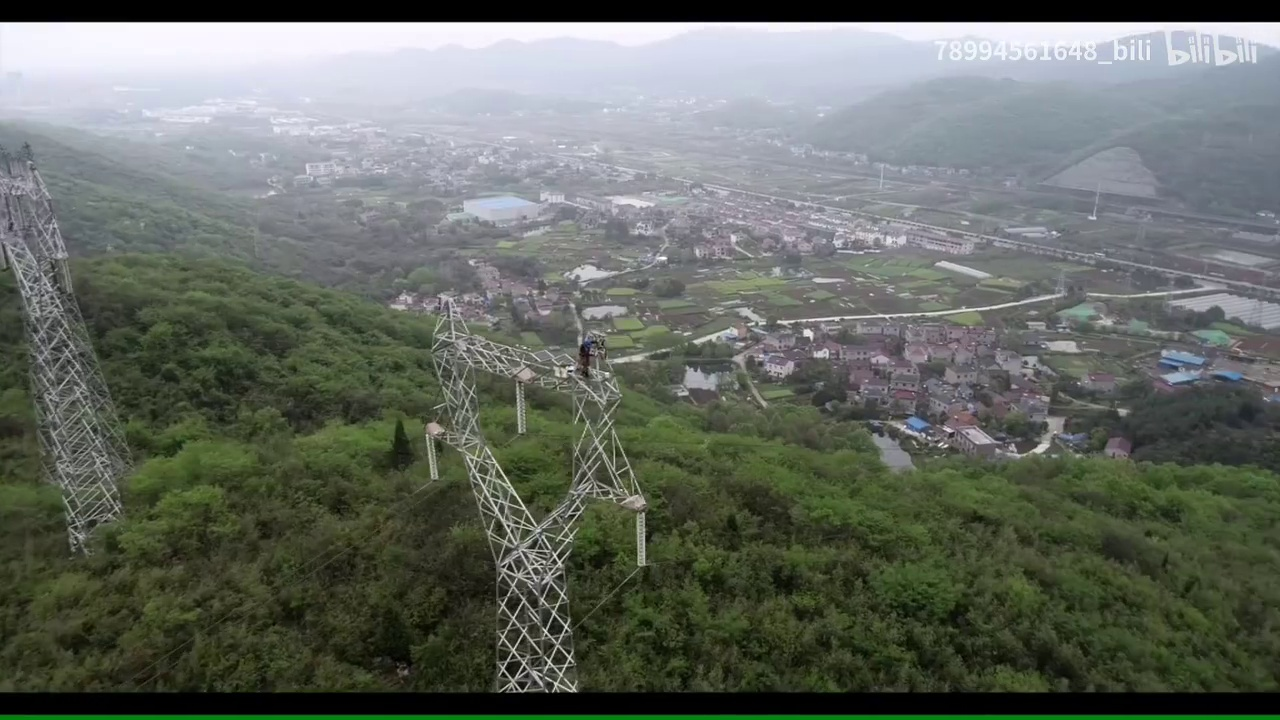tower_body: (407, 286, 655, 695)
tower_foot: (487, 619, 585, 694)
tower_head: (415, 293, 641, 568)
